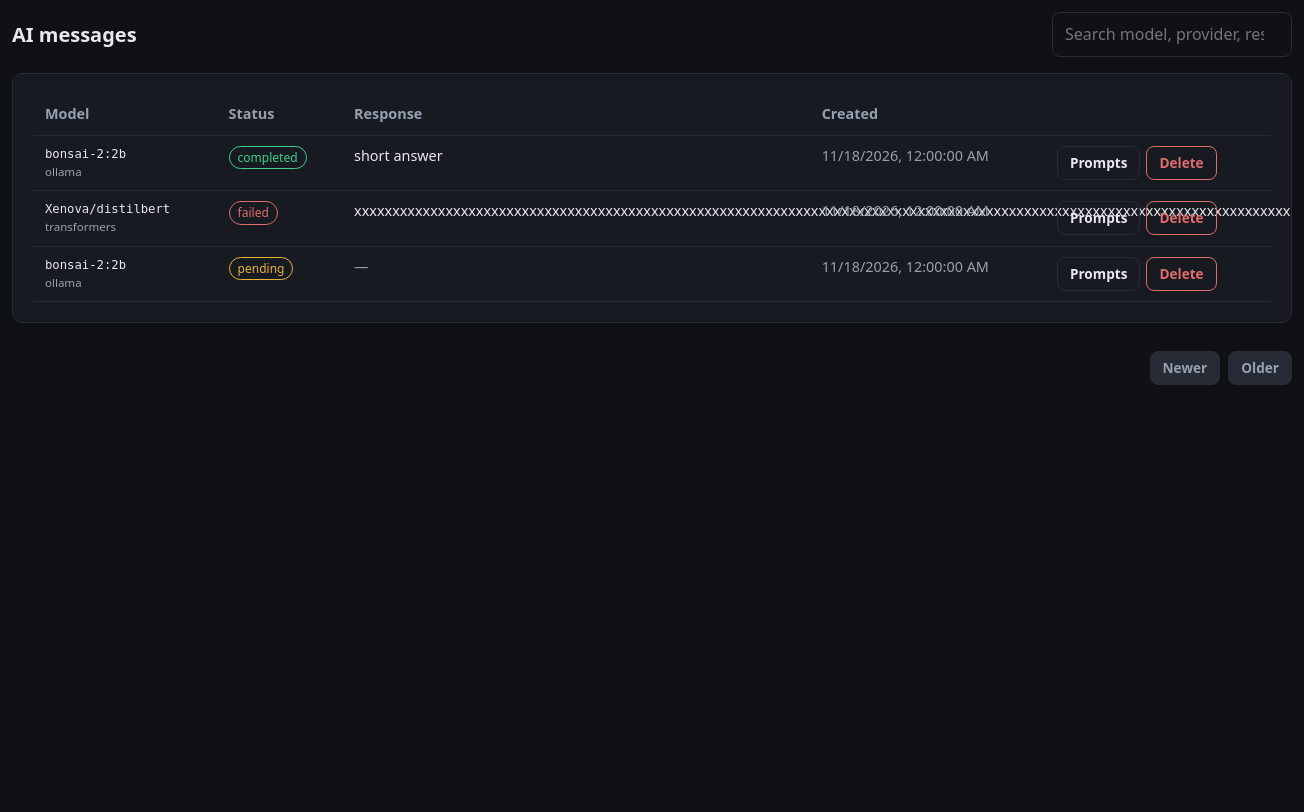
AiMessagesAdmin › expands and collapses the prompts for a row
The width and height of the screenshot is (1304, 812).
Expected: the text "short answer" is shown, [342,136,810,191]
Click the button "Prompts" in the row of "completed" at (1099, 163), box [1057,146,1140,180]
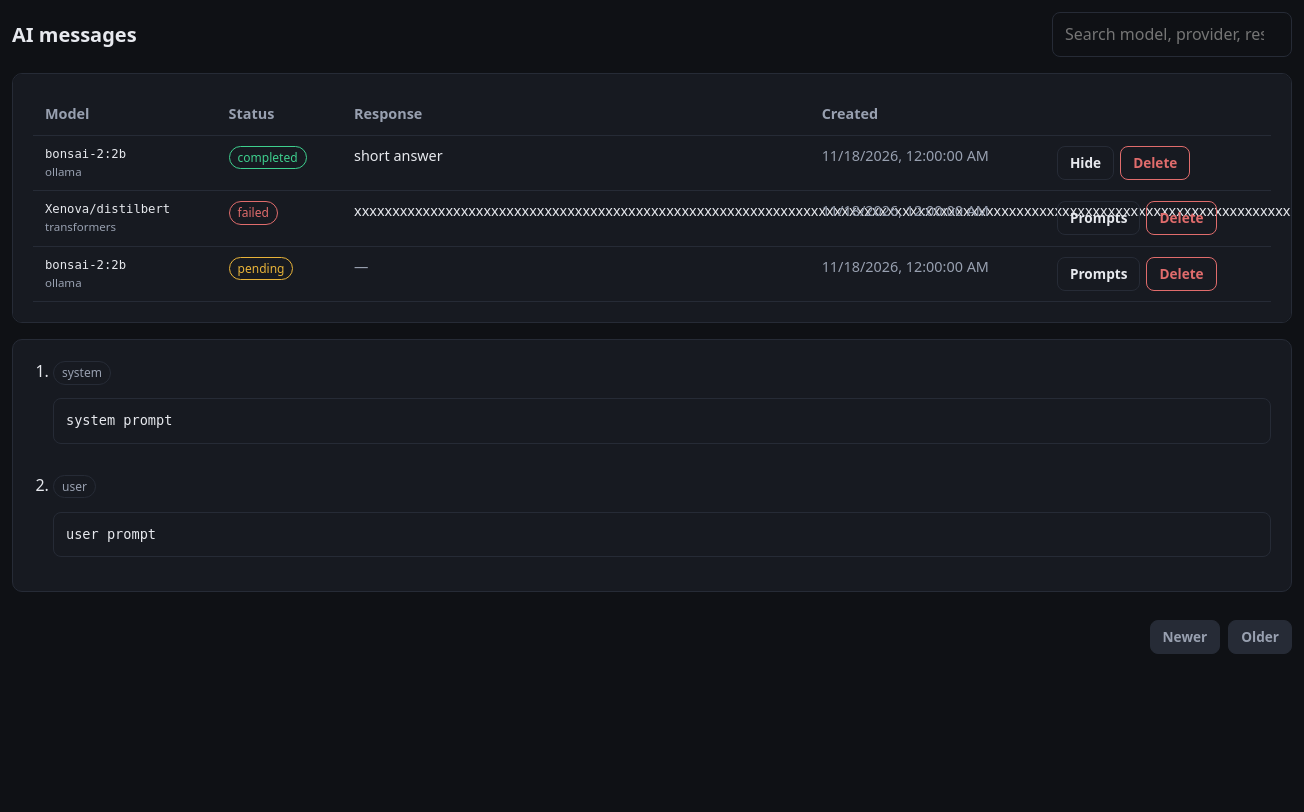
Now the text "system prompt" is shown, box [53,398,1271,444]
Now the text "user prompt" is shown, box [53,512,1271,557]
Now the button "Hide" is shown
Click the button "Hide" at (1086, 163), box [1057,146,1114,180]
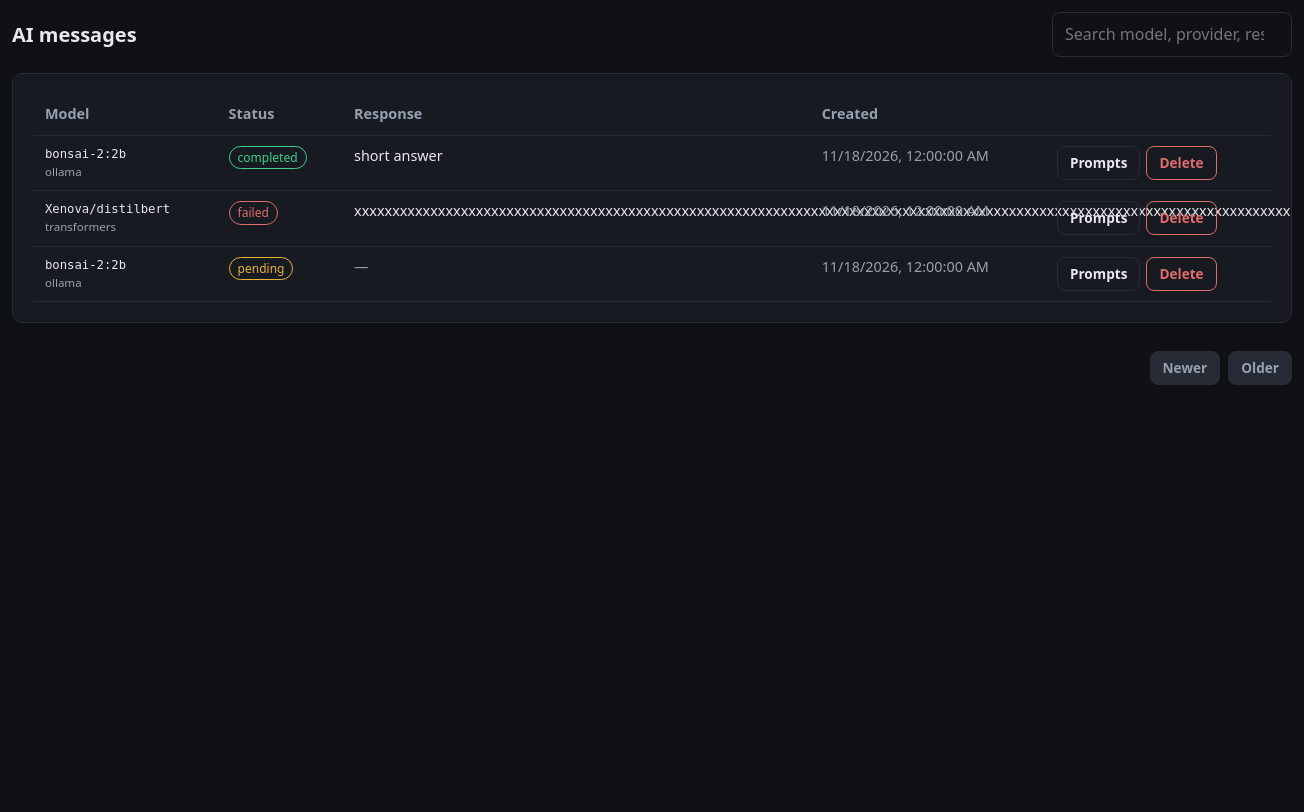
Now the text "system prompt" is gone
